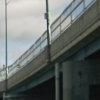Bridge: (10, 3, 90, 89)
